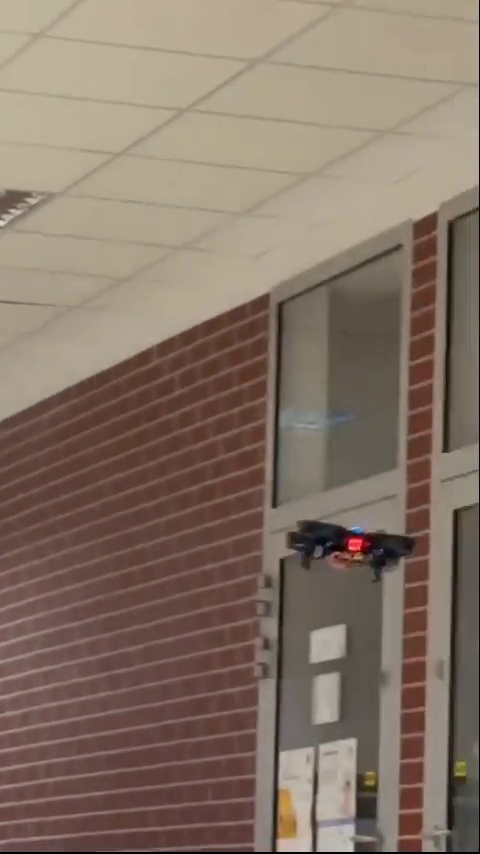drone: (285, 517, 415, 580)
